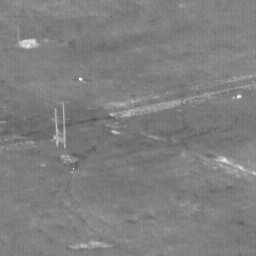aircraft: (80, 78, 82, 80)
